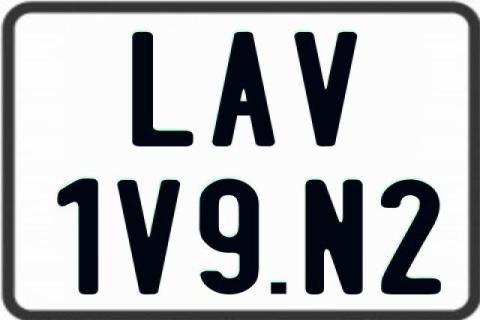0: (197, 176, 262, 293), (380, 177, 442, 293), (57, 177, 101, 295)
A: (210, 31, 278, 147)
L: (129, 32, 191, 147)
N: (304, 178, 368, 298)
V: (293, 31, 359, 147), (115, 180, 179, 294)
